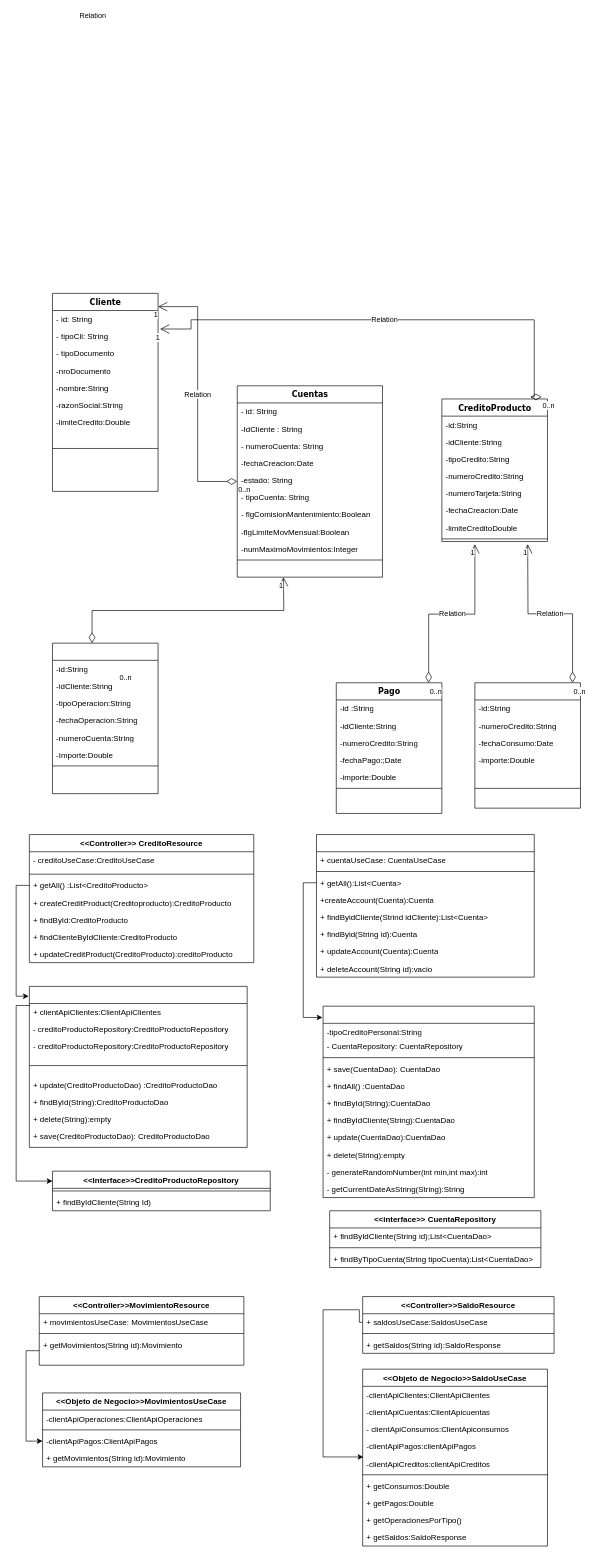
The diagram is 597 pixels wide and 1560 high, and some of its shapes have lost their labels. The shapes that lost their labels are listed below. From the top down, each one's box as (x1, y1, x2, y2) in pixels, then its label:
(52, 643, 158, 794): OperacionCta
(474, 682, 580, 808): CargoConsumo
(316, 834, 534, 977): <<Controller>>CuentaResource
(29, 986, 247, 1147): <<Objeto de negocio>>CreditoUseCase
(322, 1006, 534, 1198): <<Objeto de Negocio>>CuentasUsecase
